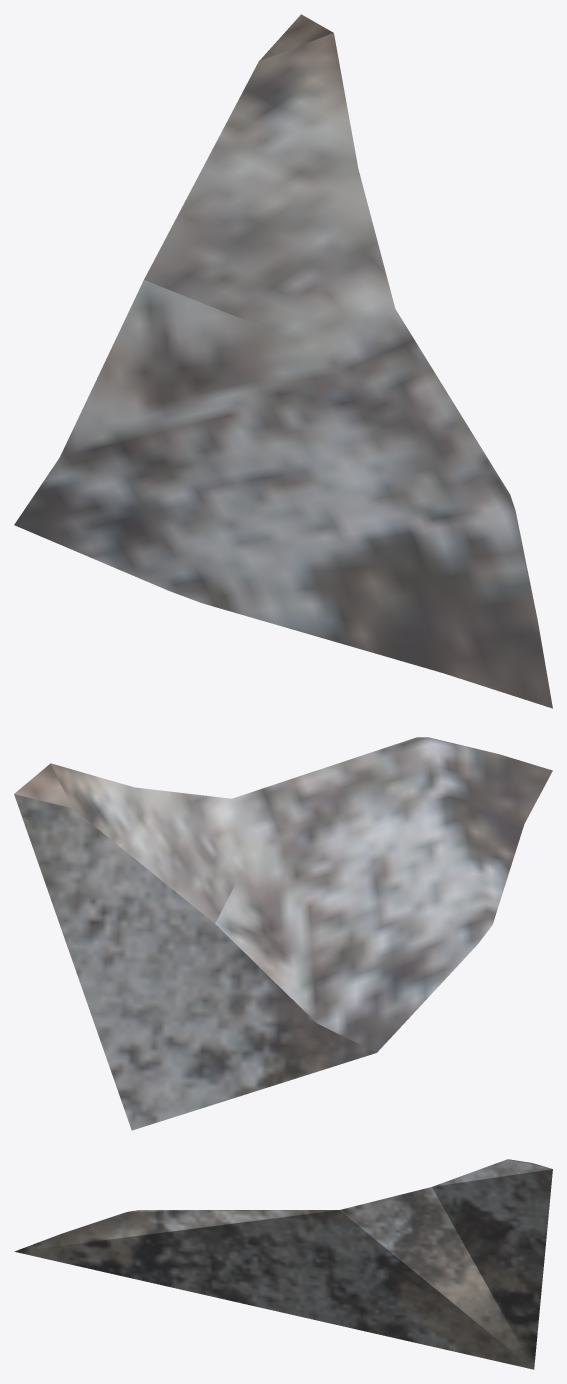
The model's file is Asteroid_Large_001_02_009_03_021.fbx.
3 renders of one model, top to bottom at view 1: azimuth 30°, elevation 25°; view 2: azimuth 150°, elevation 25°; view 3: azimuth 270°, elevation 25°, orthographic. The views are drawn at different scales.
Parts seen in each view (by area): view 1: Asteroid_Large_001_02_009_03_021; view 2: Asteroid_Large_001_02_009_03_021; view 3: Asteroid_Large_001_02_009_03_021.
Part boxes in pixels (bbox=[...]): Asteroid_Large_001_02_009_03_021: bbox=[14, 14, 552, 708]; Asteroid_Large_001_02_009_03_021: bbox=[14, 737, 552, 1130]; Asteroid_Large_001_02_009_03_021: bbox=[14, 1159, 552, 1369].
Size of the model in its own units: 3 by 3.31 by 6.57.
